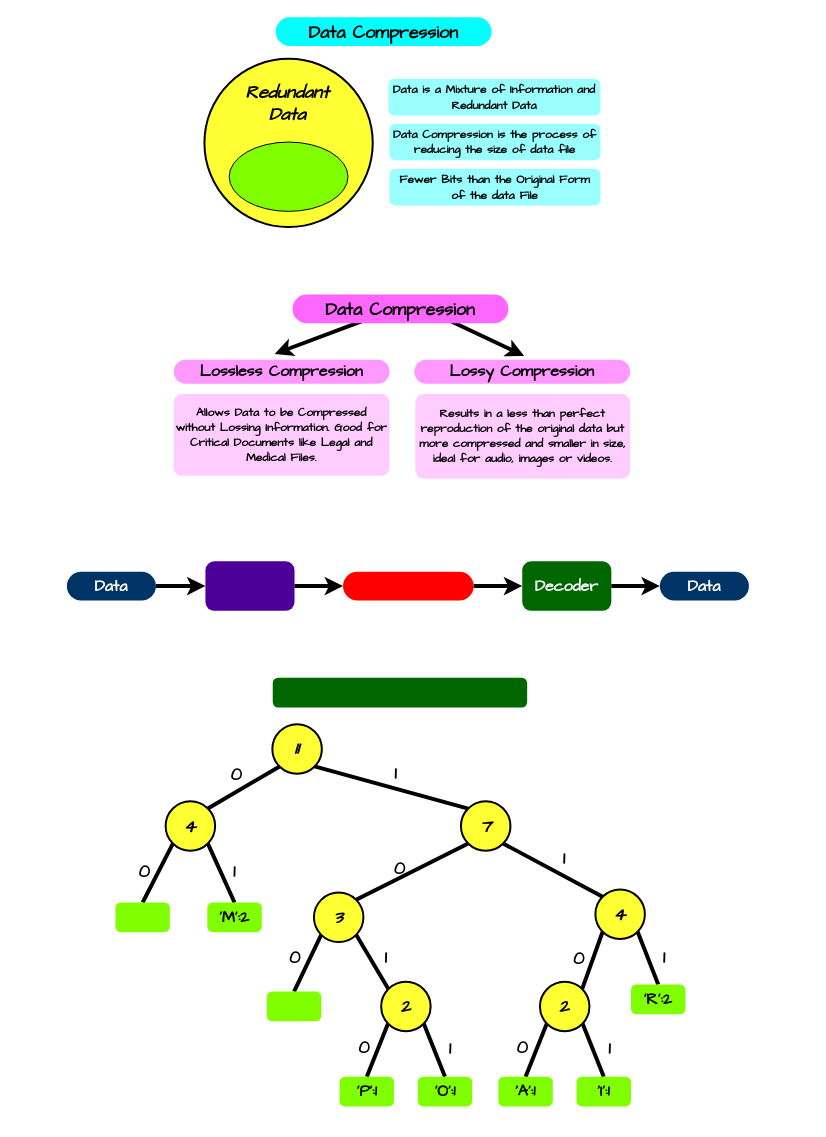
This 826x1137 diagram has some shape labels left out. The centre of each missing label's shape, as x and y in pixels:
'G':2: point 142,917
'N':1: point 293,1006
Encoded Data: point 408,585
Encoder: point 249,585
Huffman Coding Tree: point 399,692
Useful Information: point 288,176
